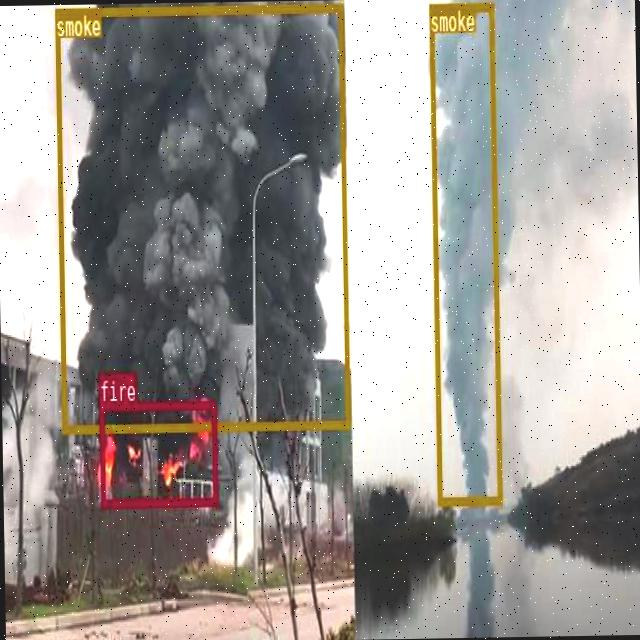fire: (98, 399, 216, 506)
smoke: (54, 2, 349, 430), (428, 2, 501, 503)
